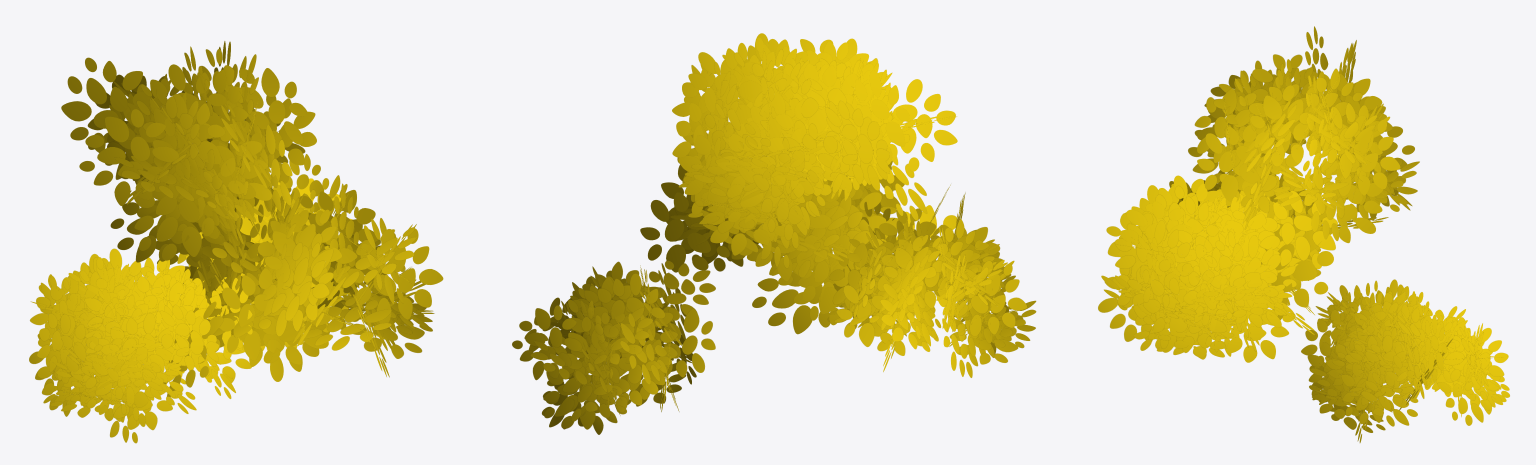
The model's file is tree_birch_b.glb.
3 views of the same model, side by side, from view 1: azimuth 30°, elevation 25°; view 2: azimuth 150°, elevation 25°; view 3: azimuth 270°, elevation 25° (orthographic). The views are drawn at different scales.
Visible parts, largest first — view 1: tree_birch_b; view 2: tree_birch_b; view 3: tree_birch_b.
Part boxes in pixels (bbox=[...]): tree_birch_b: bbox=[29, 41, 443, 443]; tree_birch_b: bbox=[512, 33, 1036, 434]; tree_birch_b: bbox=[1098, 26, 1509, 442].
Bounding box in the file's own units: 3.73 × 3.04 × 3.65.
1 material, 1 textured.
